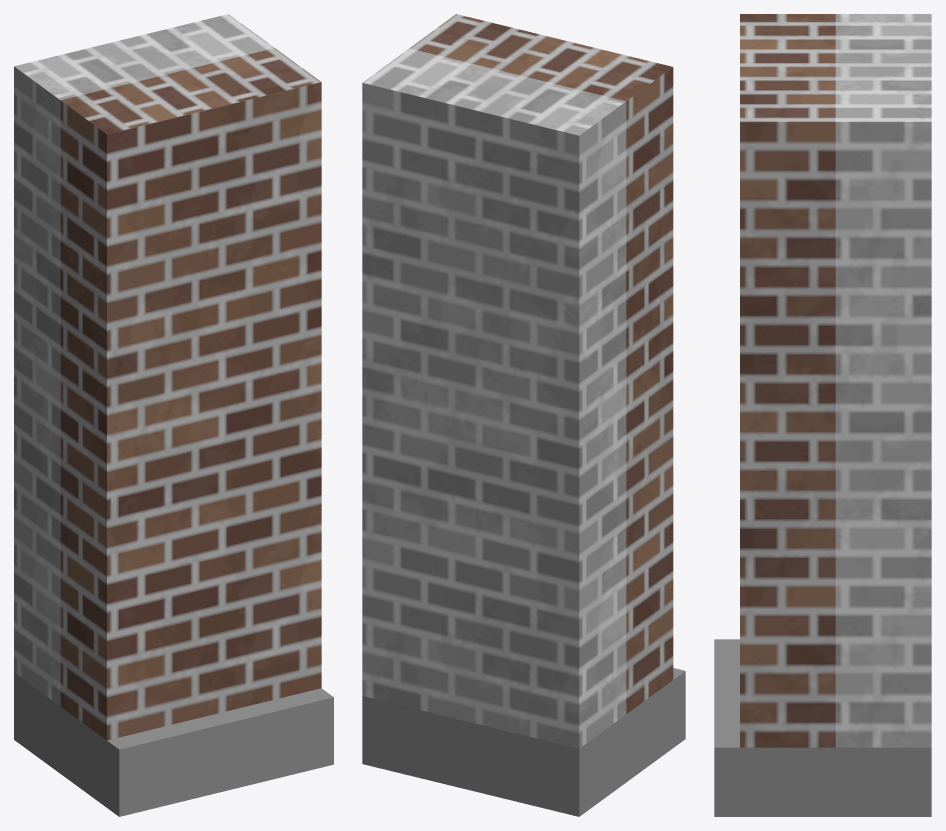
Rendered from Middle_Wall_001.FBX.
3 views of the same model, side by side, from view 1: azimuth 30°, elevation 25°; view 2: azimuth 150°, elevation 25°; view 3: azimuth 270°, elevation 25° (orthographic). The views are drawn at different scales.
Parts seen in each view (by area): view 1: Middle_Wall_001; view 2: Middle_Wall_001; view 3: Middle_Wall_001.
Boxes of the visible parts, left/top/right/bottom form: Middle_Wall_001: left=14, top=14, right=333, bottom=816; Middle_Wall_001: left=362, top=14, right=685, bottom=816; Middle_Wall_001: left=714, top=14, right=931, bottom=816.
Size of the model in its own units: 100 by 85 by 300.
